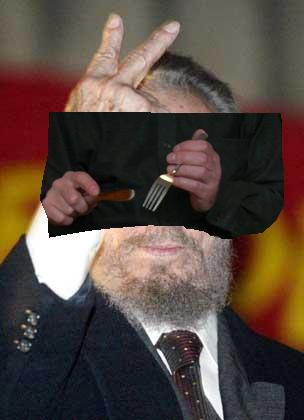tampered: (41, 113, 284, 239)
